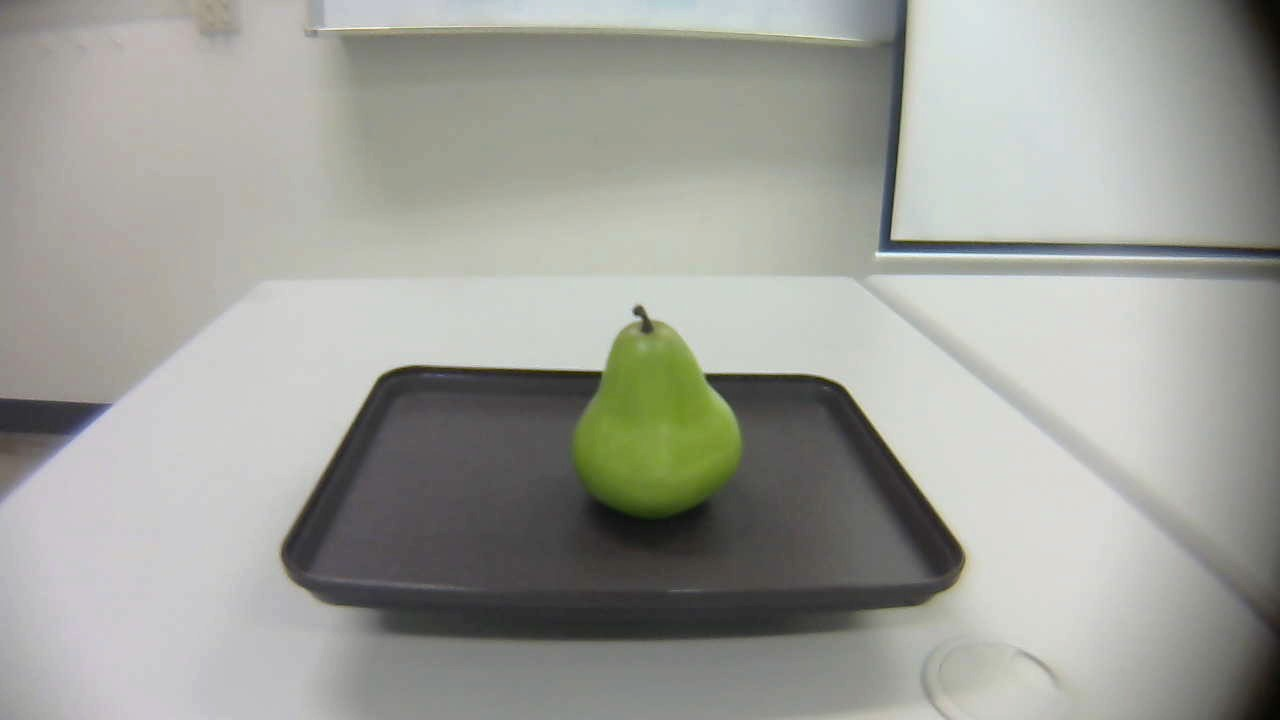green pear: (567, 301, 746, 526)
